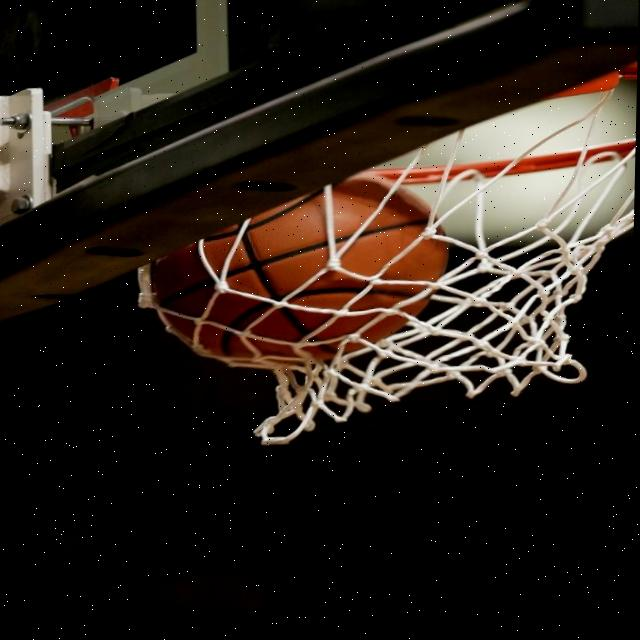basketball: (150, 168, 450, 373)
hoop: (130, 60, 638, 463), (130, 60, 638, 463)
